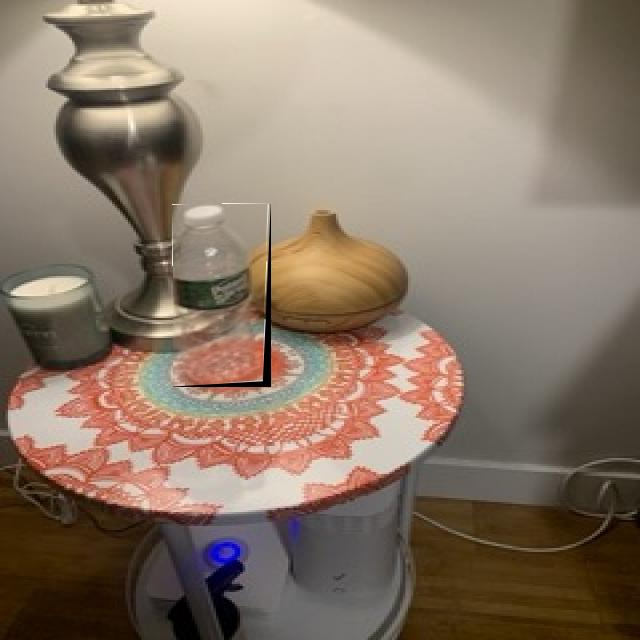water_bottle: (173, 204, 271, 387)
